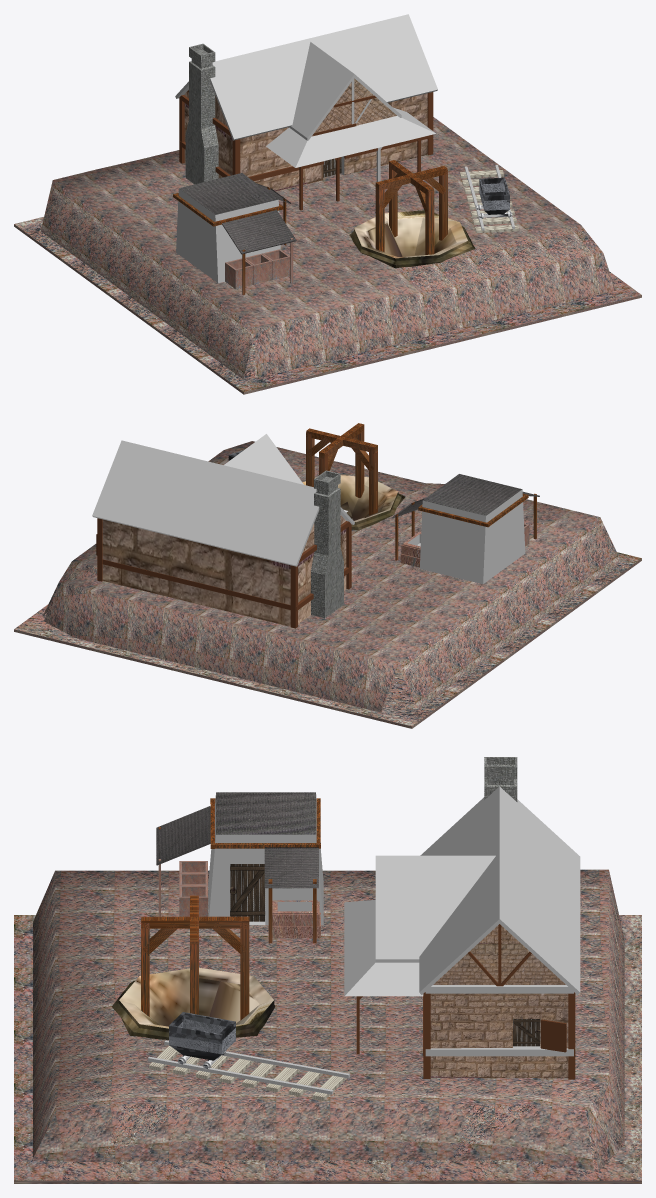
The model's file is HUMAN_MINE.fbx.
3 renders of one model, top to bottom at view 1: azimuth 30°, elevation 25°; view 2: azimuth 150°, elevation 25°; view 3: azimuth 270°, elevation 25°, orthographic. The views are drawn at different scales.
Parts seen in each view (by area): view 1: Mine, TechoCasa, Cubo, Casa, Agujero, Estructura caseta, chimney, CuadroMaderaMina, MaderaCasa, TechoCaseta, tenderete, Caseta (+3 smaller); view 2: Mine, TechoCasa, Casa, Cubo, Estructura caseta, chimney, CuadroMaderaMina, MaderaCasa, TechoCaseta, Agujero, MaderaCaseta, Caseta; view 3: Mine, TechoCasa, Cubo, Casa, Agujero, CuadroMaderaMina, tenderete, TechoCaseta, Estructura caseta, Caseta, MaderaCasa, Carrito (+6 smaller).
Part boxes in pixels (x1,y1,x2,y2): Mine: (41, 117, 614, 379); TechoCasa: (210, 14, 437, 167); Cubo: (14, 217, 641, 394); Casa: (175, 74, 437, 191); Agujero: (349, 210, 475, 268); Estructura caseta: (176, 188, 280, 283); chimney: (185, 43, 218, 184); CuadroMaderaMina: (375, 160, 447, 254); MaderaCasa: (179, 92, 433, 210); TechoCaseta: (179, 173, 278, 214); tenderete: (222, 183, 296, 254); Caseta: (225, 238, 293, 288); Mine: (42, 441, 620, 712); TechoCasa: (92, 434, 347, 565); Casa: (92, 507, 354, 626); Cubo: (14, 552, 641, 728); Estructura caseta: (420, 489, 525, 584); chimney: (311, 470, 343, 618); CuadroMaderaMina: (306, 423, 377, 515); MaderaCasa: (96, 518, 351, 628); TechoCaseta: (423, 474, 522, 515); Agujero: (302, 475, 404, 530); MaderaCaseta: (395, 493, 536, 560); Caseta: (400, 523, 529, 567); Mine: (31, 869, 624, 1170); TechoCasa: (344, 786, 580, 996); Cubo: (14, 915, 641, 1183); Casa: (375, 919, 579, 1078); Agujero: (112, 967, 275, 1039); CuadroMaderaMina: (141, 895, 249, 1020); tenderete: (156, 806, 318, 888); TechoCaseta: (216, 792, 315, 834); Estructura caseta: (208, 794, 323, 925); Caseta: (158, 859, 320, 938); MaderaCasa: (356, 924, 575, 1079); Carrito: (169, 1012, 235, 1069).
Bounding box in the file's own units: 1257 × 547 × 1257.
